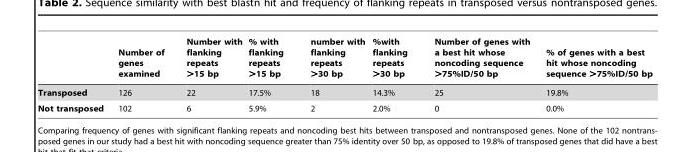table: (37, 37, 651, 112)
table column: (420, 37, 537, 112), (537, 37, 651, 112), (37, 37, 110, 112), (296, 37, 368, 112), (174, 37, 244, 112), (110, 37, 174, 112), (244, 37, 296, 112), (368, 37, 420, 112)
table column header: (37, 37, 651, 82)
table row: (37, 37, 651, 82), (37, 82, 651, 100), (37, 100, 651, 112)
